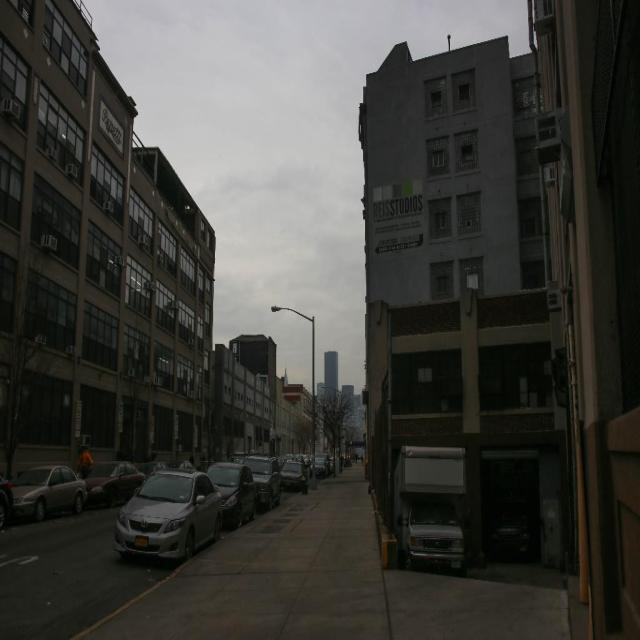car: (107, 464, 229, 565), (1, 455, 86, 519), (0, 471, 14, 535)
